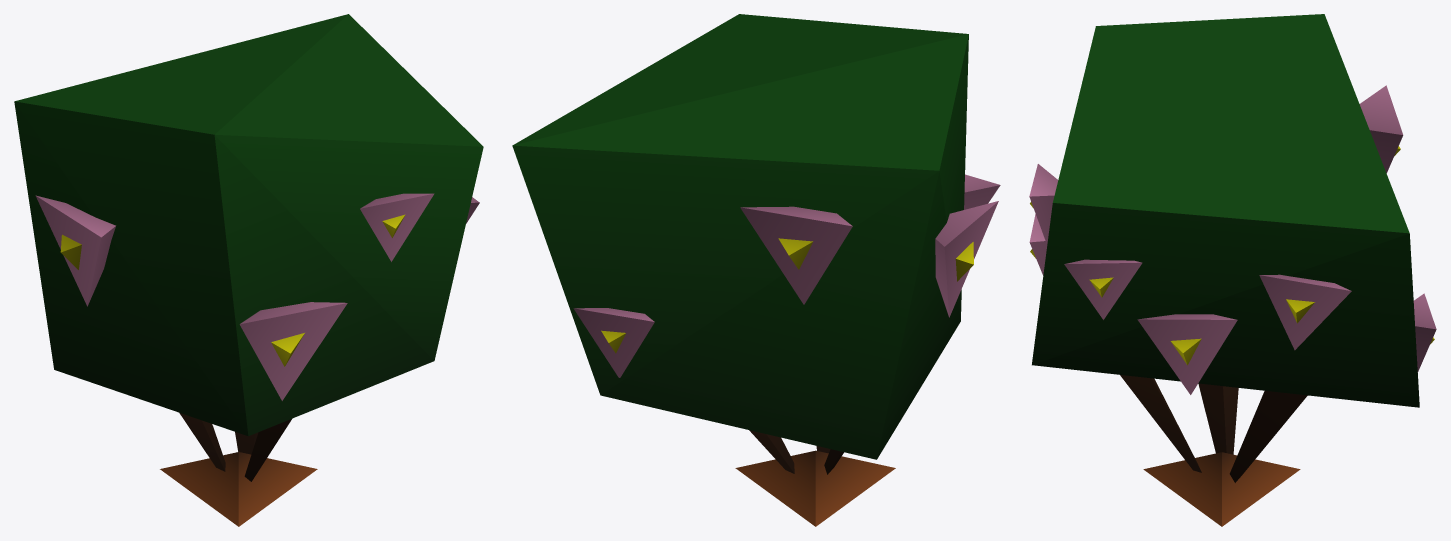
Rendered from c_hedge_square_flower_ac.fbx.
3 renders of one model, left to right at view 1: azimuth 30°, elevation 25°; view 2: azimuth 150°, elevation 25°; view 3: azimuth 270°, elevation 25°, orthographic. The views are drawn at different scales.
Visible parts, largest first — view 1: c_hedge_square_flower_ac; view 2: c_hedge_square_flower_ac; view 3: c_hedge_square_flower_ac.
Part boxes in pixels (bbox=[...]): c_hedge_square_flower_ac: bbox=[14, 14, 483, 526]; c_hedge_square_flower_ac: bbox=[512, 14, 1000, 526]; c_hedge_square_flower_ac: bbox=[1029, 14, 1436, 526].
Bounding box in the file's own units: 1.43 × 1.58 × 1.34.
